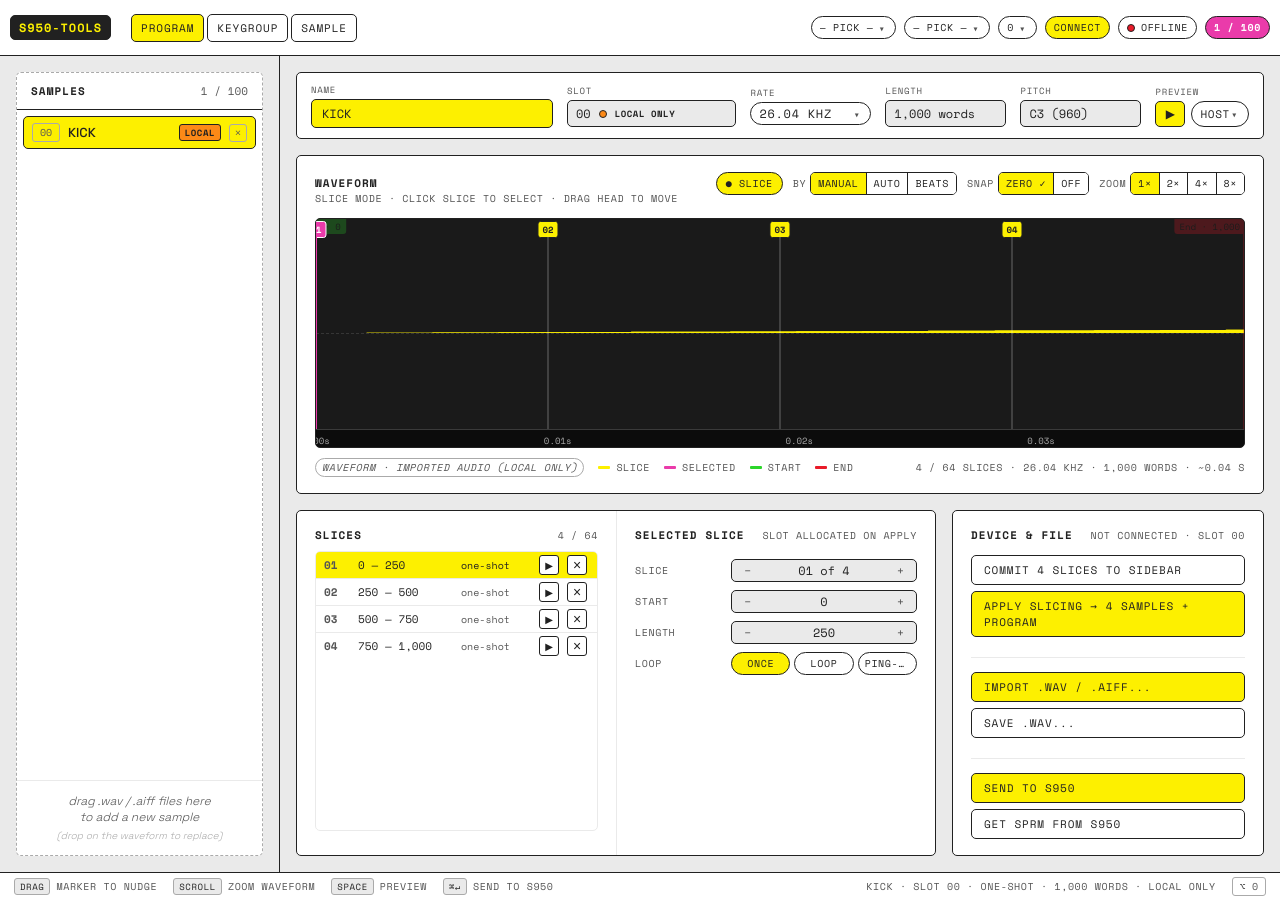
Scenario: Sample tab — commit + apply lifecycle › Apply label adapts based on commit state
Expected: the button "Apply slicing → 4 samples + program" is shown, [971, 591, 1245, 637]
Click the button "Commit 4 slices to sidebar".
click(1108, 570)  # box [971, 555, 1245, 585]
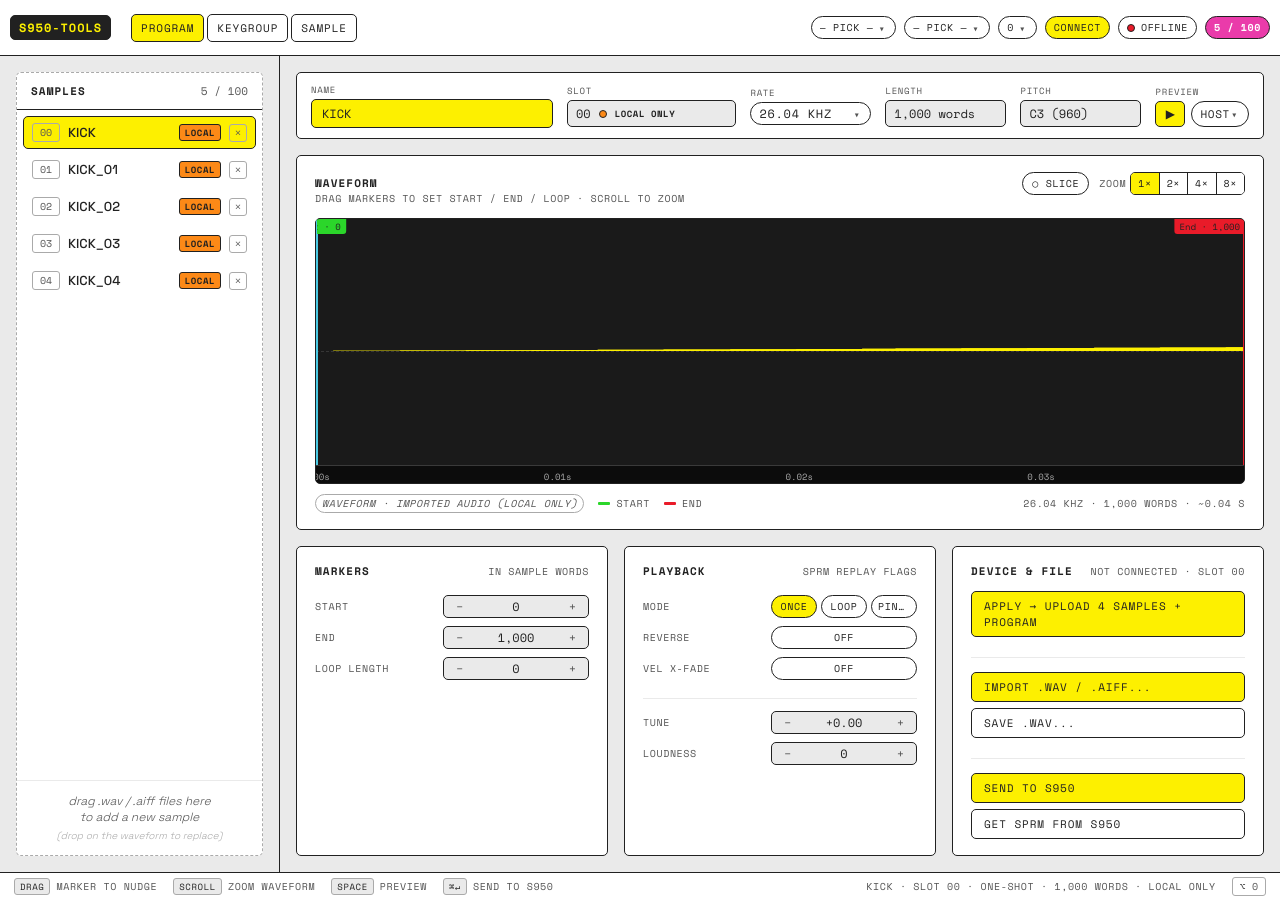
Expected: the button "Commit" is gone
Expected: the button "Apply → upload 4 samples + program" is shown, [971, 591, 1245, 637]
